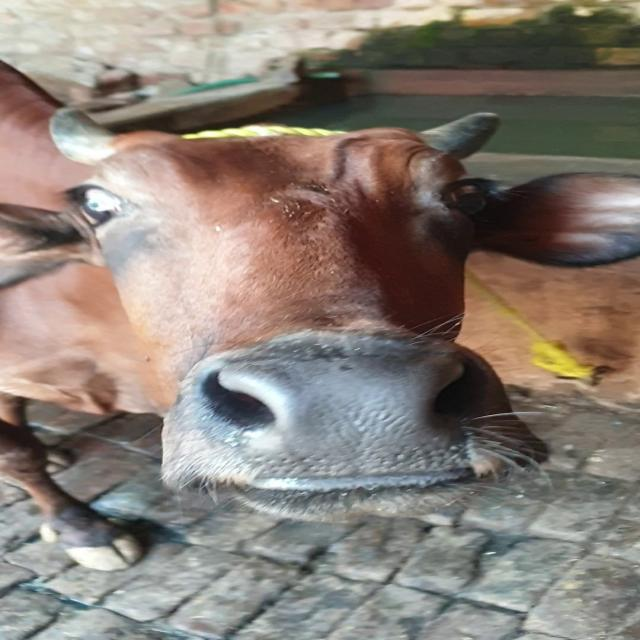cowFace: (50, 121, 572, 519)
